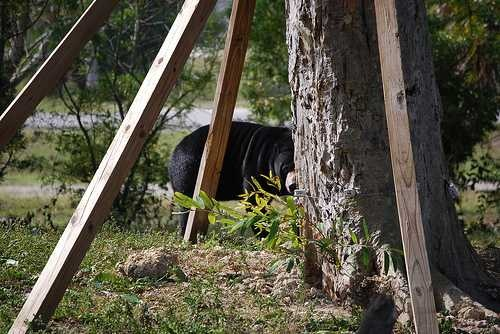bear: (168, 109, 296, 237)
